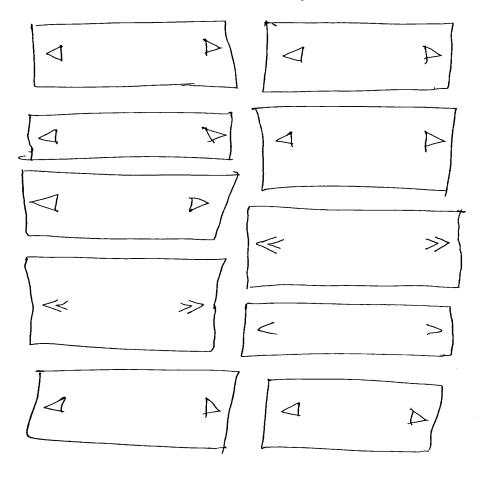Carousel: (25, 257, 227, 353), (252, 107, 458, 197), (247, 206, 467, 290), (27, 370, 240, 455), (22, 170, 240, 241), (32, 20, 239, 89), (263, 21, 454, 93), (262, 380, 444, 453), (242, 303, 455, 358), (19, 110, 234, 161)
